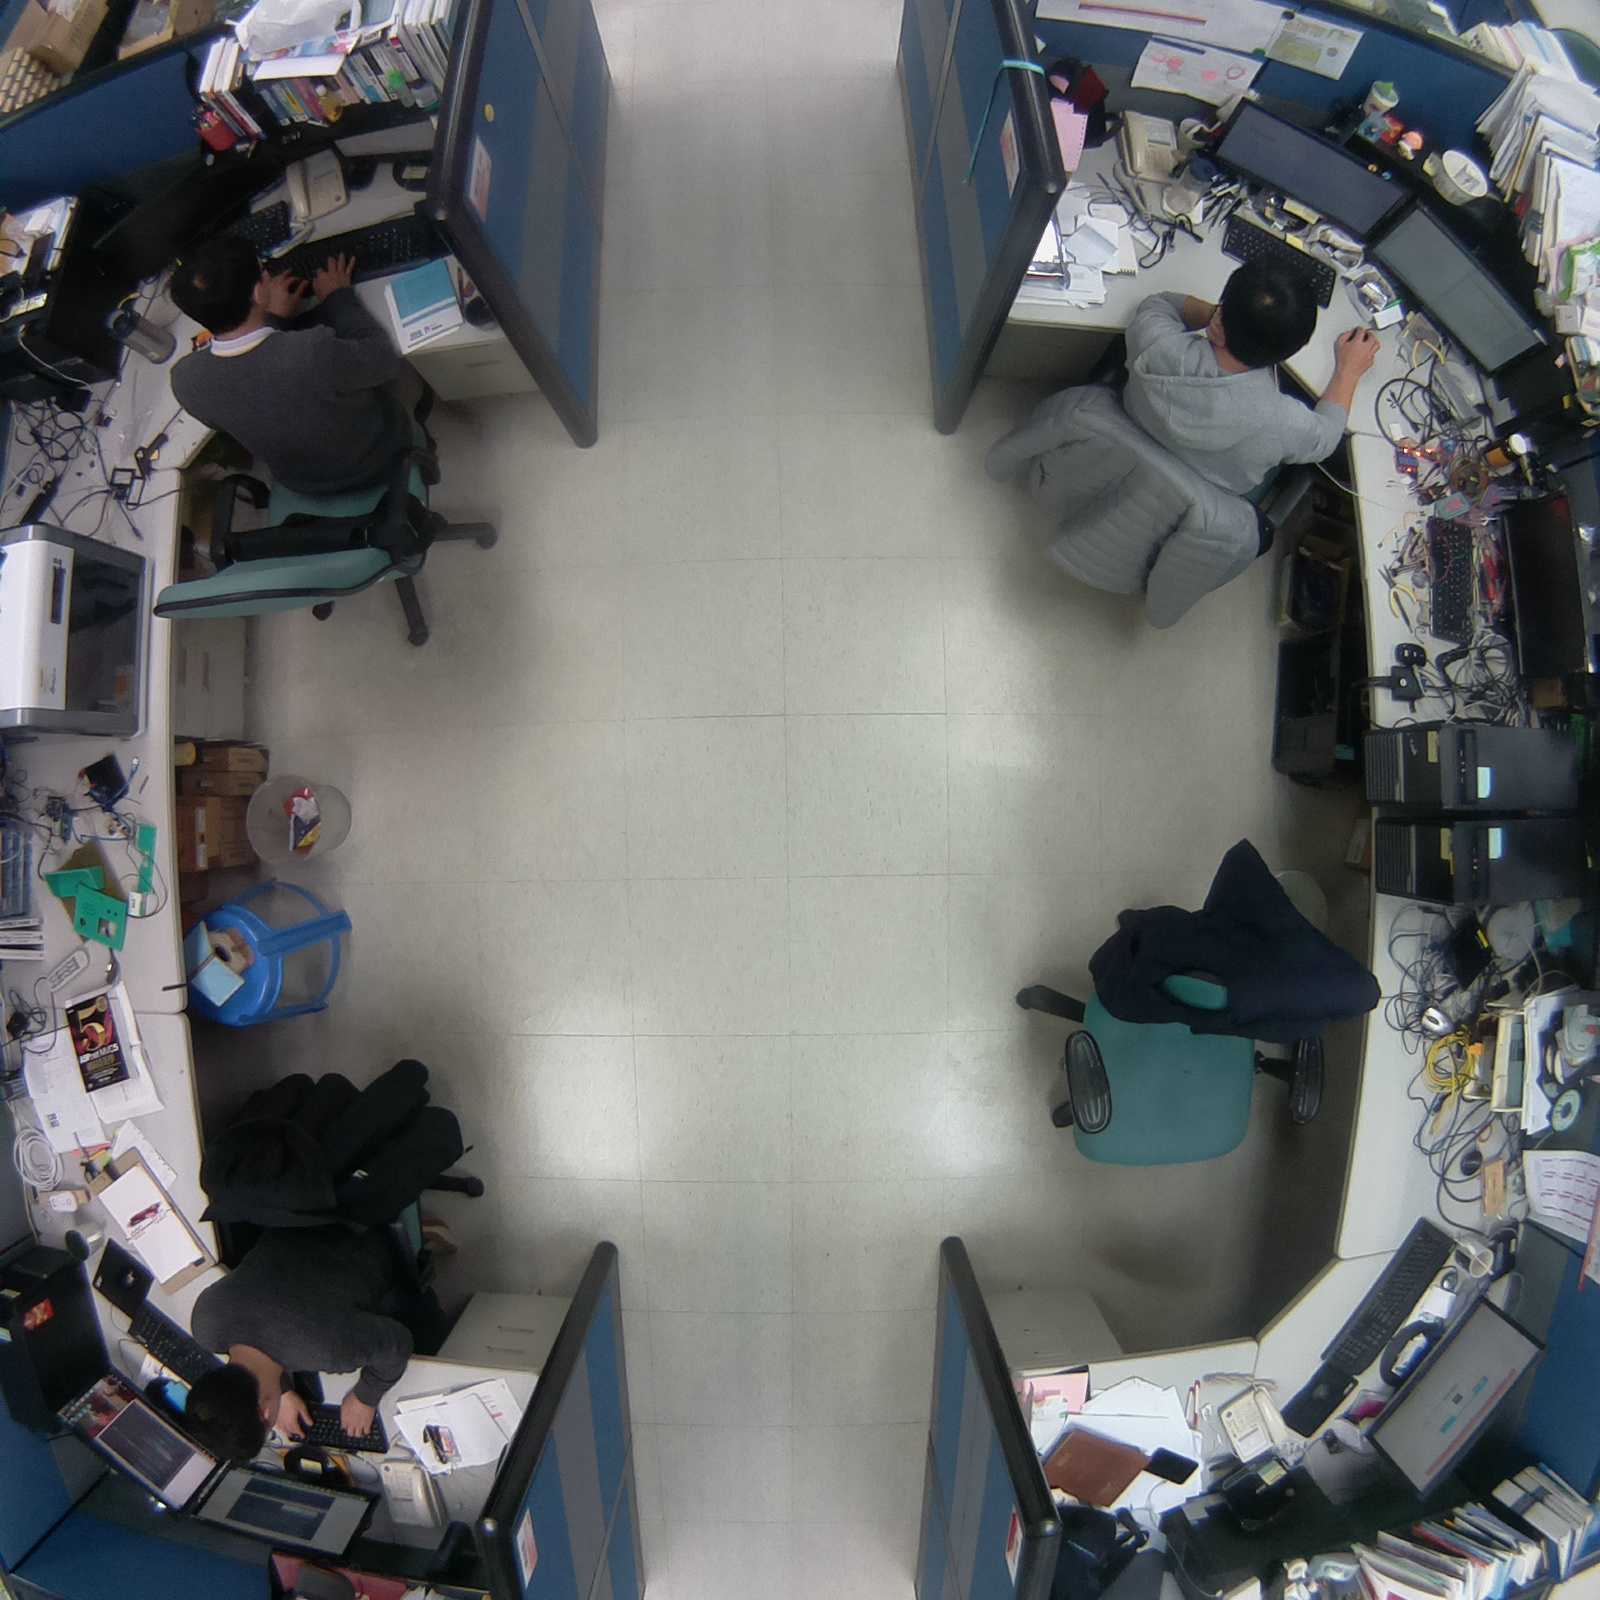chair: (990, 822, 1410, 1187)
sitting: (117, 215, 527, 659), (966, 233, 1392, 642), (170, 1045, 497, 1484)
